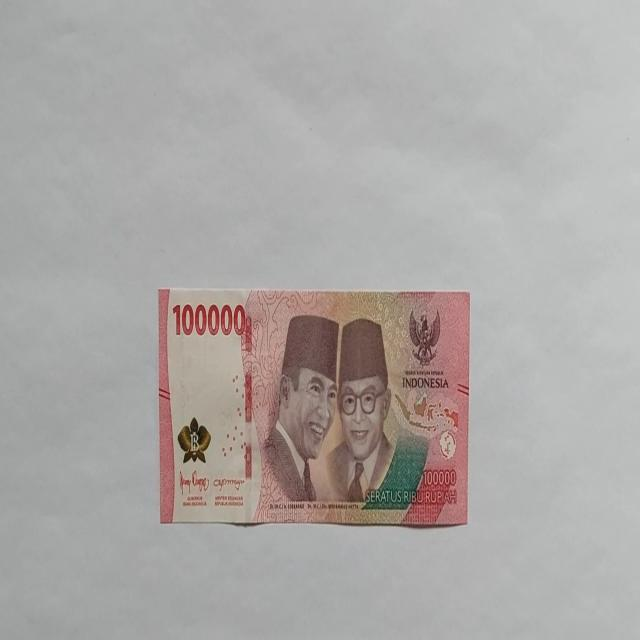seratus ribu rupiah: (157, 286, 470, 527), (253, 313, 339, 519)
